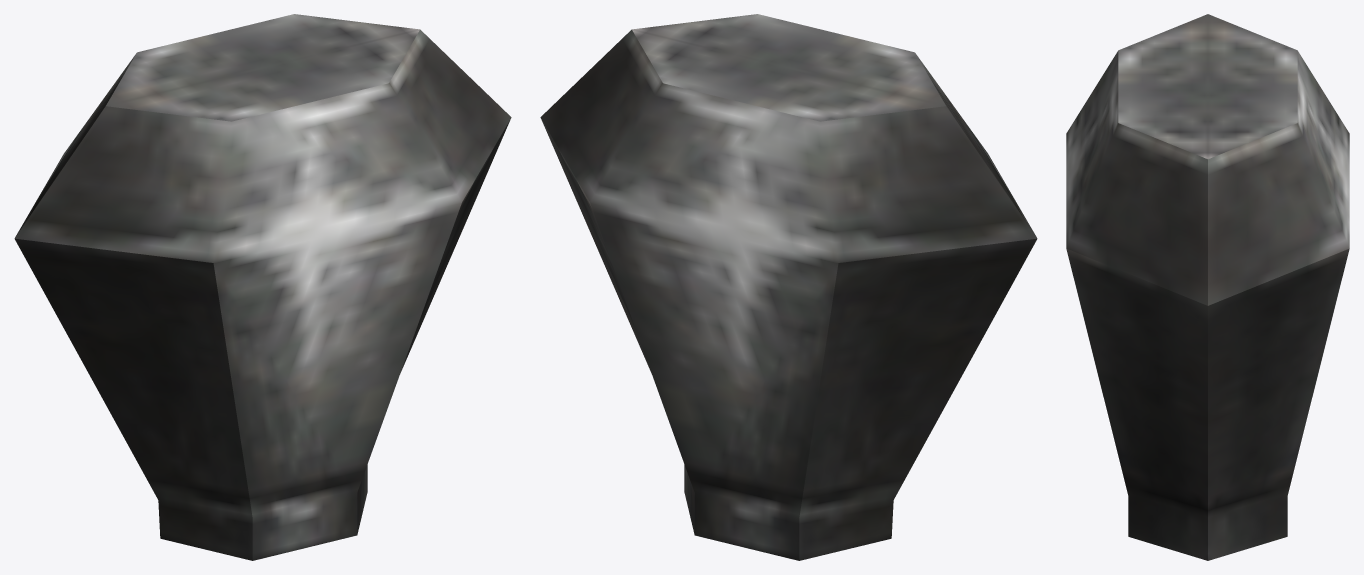
File: Longsword_tail_default.FBX
3 views of the same model, side by side, from view 1: azimuth 30°, elevation 25°; view 2: azimuth 150°, elevation 25°; view 3: azimuth 270°, elevation 25° (orthographic). The views are drawn at different scales.
Parts seen in each view (by area): view 1: Longsword_tail_default; view 2: Longsword_tail_default; view 3: Longsword_tail_default.
Boxes of the visible parts, bbox=[...] form: Longsword_tail_default: bbox=[14, 14, 511, 560]; Longsword_tail_default: bbox=[540, 14, 1037, 560]; Longsword_tail_default: bbox=[1066, 14, 1349, 560].
Size of the model in its own units: 5.89 by 5.09 by 3.07.
Materials: 1 (1 with a texture image).
